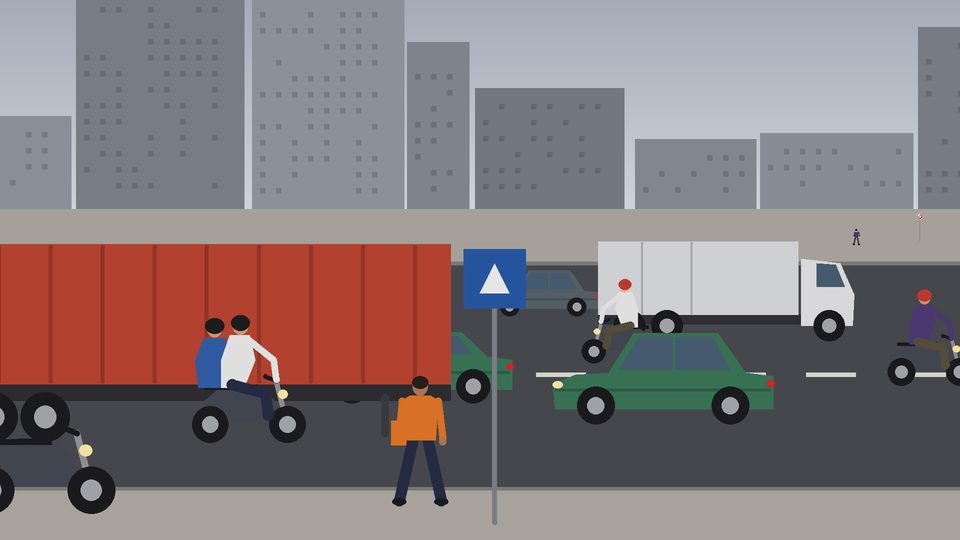Car: (553, 333, 774, 425), (451, 332, 513, 404), (526, 271, 598, 317)
Motorcycle: (0, 425, 116, 514)
Motorcyclist: (192, 315, 305, 443), (888, 290, 960, 386), (582, 279, 649, 364)
Other vehicle: (0, 244, 451, 441)
Pedestrian: (391, 376, 449, 507)
Sign: (464, 249, 526, 309)
Truck: (598, 242, 855, 342)
